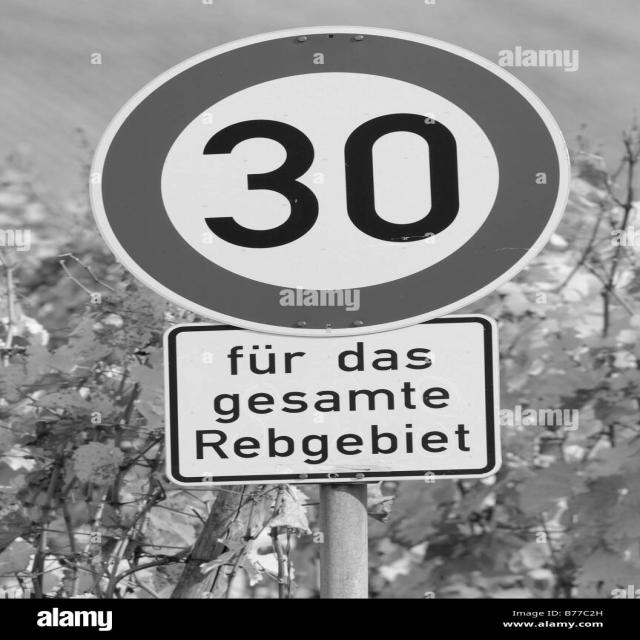speed_30: (87, 24, 569, 335)
